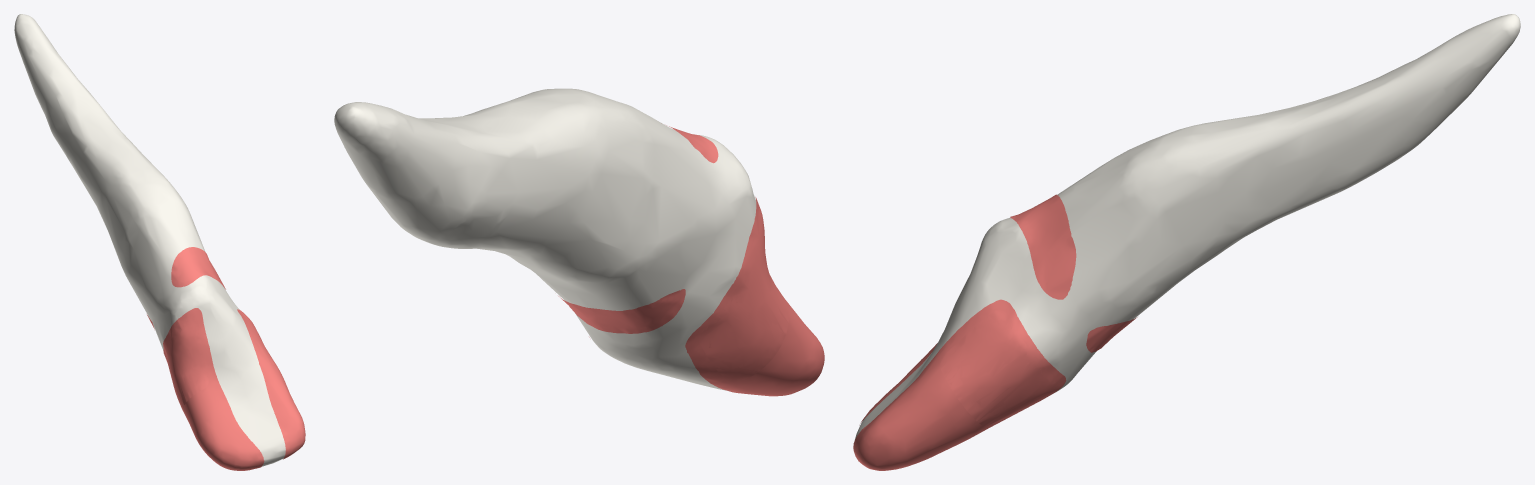
Rendered from tooth_31_FMA57143.glb.
3 views of the same model, side by side, from view 1: azimuth 30°, elevation 25°; view 2: azimuth 150°, elevation 25°; view 3: azimuth 270°, elevation 25° (orthographic). The views are drawn at different scales.
Parts seen in each view (by area): view 1: tooth_31, class4_mesial, class4_distal, class3_mesial, class5_lingual, class3_distal; view 2: tooth_31, class4_mesial, class3_mesial, class5_facial, class5_lingual; view 3: tooth_31, class4_distal, class3_distal, class5_lingual, class5_facial.
Part boxes in pixels (x1,y1,x2,y2): tooth_31: (14,14,285,466); class4_mesial: (163,308,264,470); class4_distal: (237,309,305,459); class3_mesial: (164,315,208,411); class5_lingual: (171,247,225,289); class3_distal: (242,313,276,365); tooth_31: (334,88,756,390); class4_mesial: (685,197,824,396); class3_mesial: (699,202,788,381); class5_facial: (558,289,685,333); class5_lingual: (666,125,718,163); tooth_31: (854,14,1520,440); class4_distal: (853,299,1066,470); class3_distal: (940,310,1058,427); class5_lingual: (1010,194,1076,299); class5_facial: (1086,317,1137,352).
Size of the model in its own units: 5.67 by 17.25 by 24.09.
